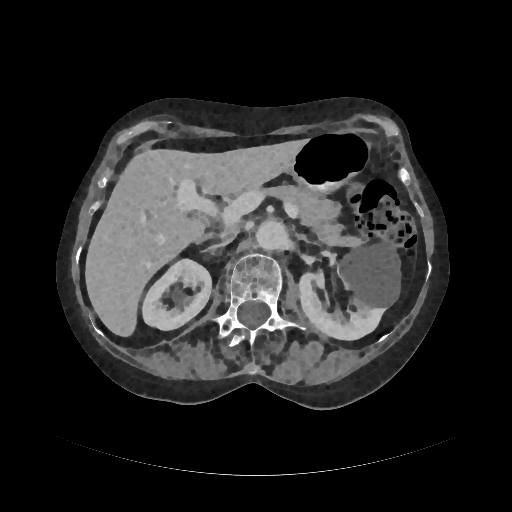Lesion: (336, 242, 405, 309)
